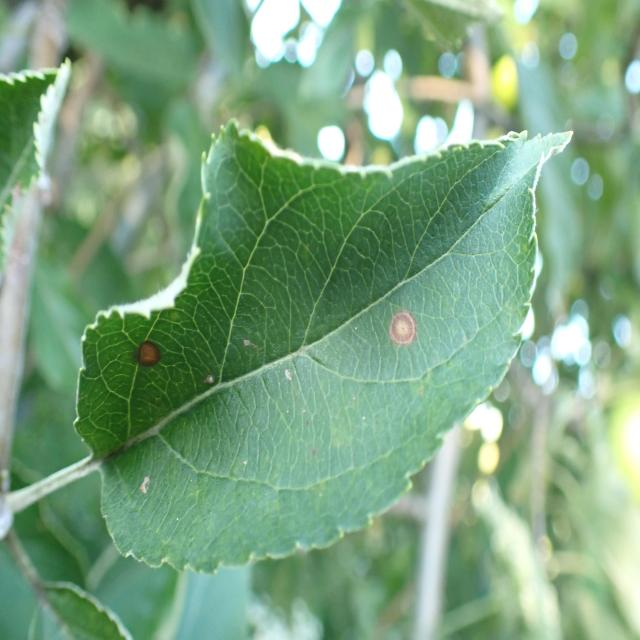Black Rot: (378, 304, 421, 372), (130, 316, 168, 391)
